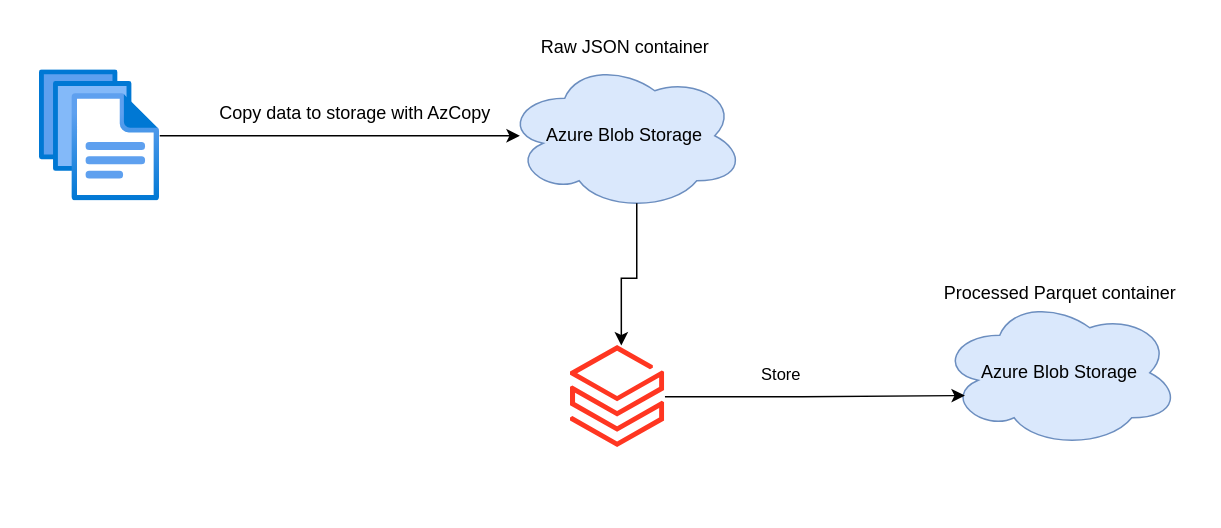
Some shapes in this 1221 by 528 pixel diagram are drawn without their labels. The centre of each missing label's shape, as x and y in pixels:
"Azure Data brick Pyspark ETL" goes at (x=617, y=396).
"OpenFDA data set (Semi-structured)" goes at (x=99, y=135).
